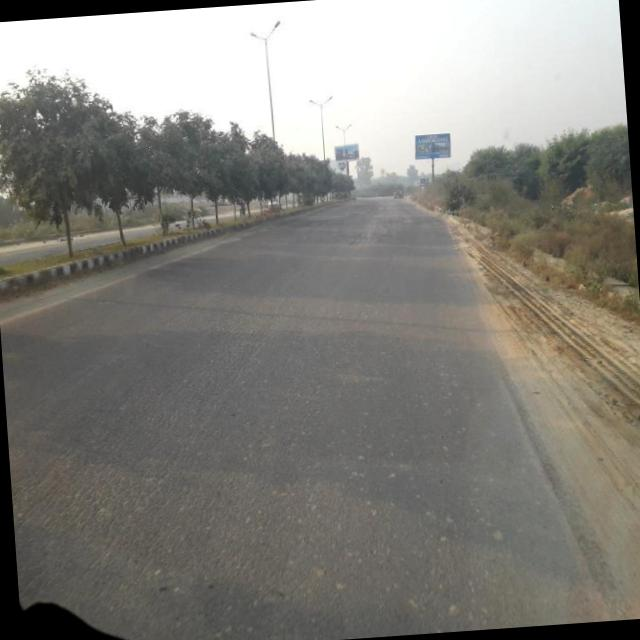crack: (3, 258, 391, 596)
